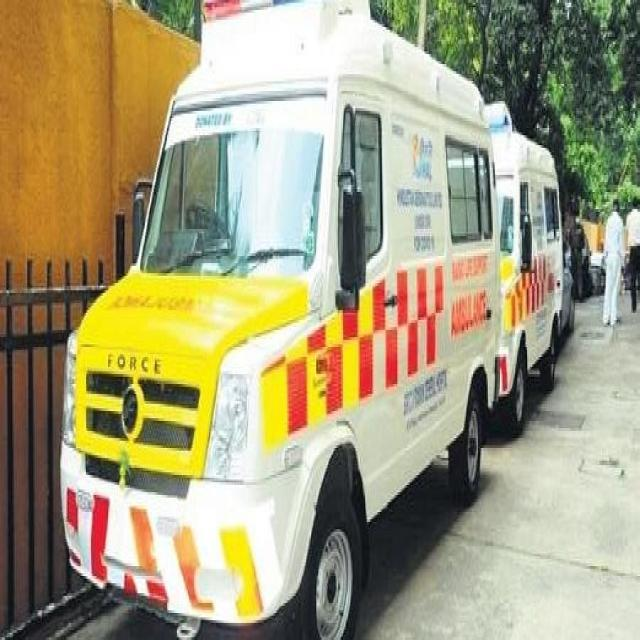ambulance: (58, 16, 568, 583)
